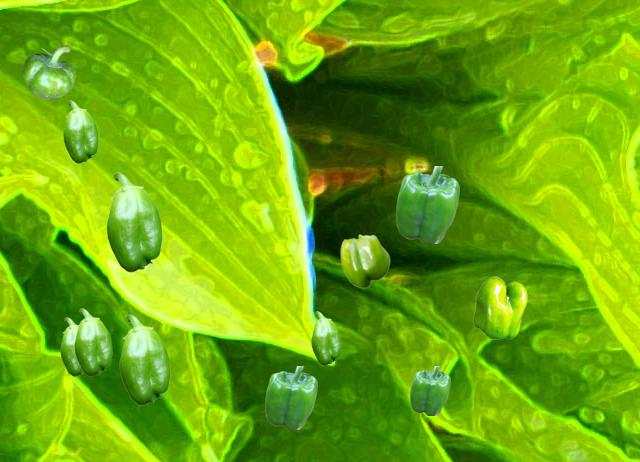bell_pepper: (106, 172, 161, 271), (396, 166, 458, 242), (119, 314, 169, 404), (473, 276, 526, 338), (265, 366, 316, 428), (22, 45, 74, 98), (340, 234, 389, 287), (74, 308, 111, 375), (63, 100, 97, 162), (410, 366, 449, 414), (311, 311, 340, 364), (60, 317, 83, 375)
